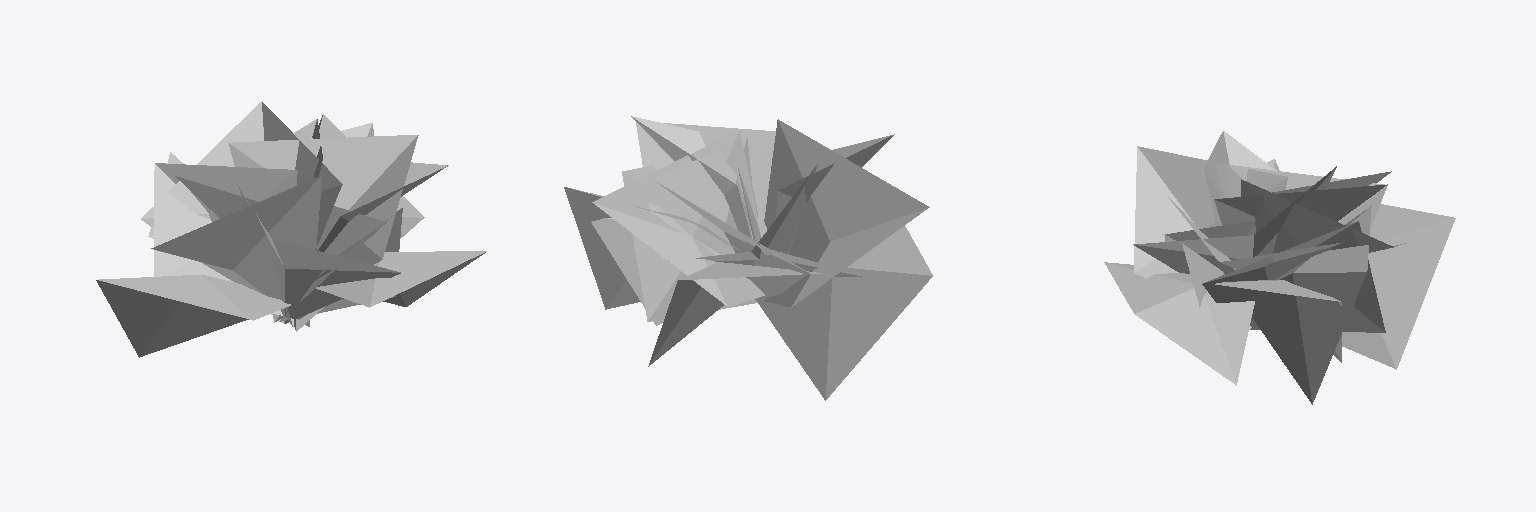
Rendered from bush 01.obj.
3 renders of one model, left to right at view 1: azimuth 30°, elevation 25°; view 2: azimuth 150°, elevation 25°; view 3: azimuth 270°, elevation 25°, orthographic.
Parts seen in each view (by area): view 1: tree; view 2: tree; view 3: tree.
Boxes of the visible parts, box(x1,y1,x2,y2) form: tree: box(96, 101, 486, 357); tree: box(564, 116, 932, 400); tree: box(1104, 130, 1455, 404).
Size of the model in its own units: 187 by 112 by 175.